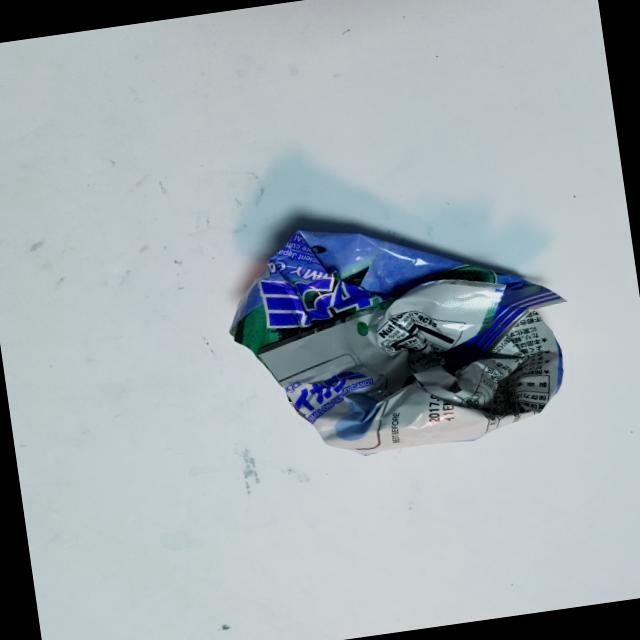plastic: (203, 157, 634, 503)
